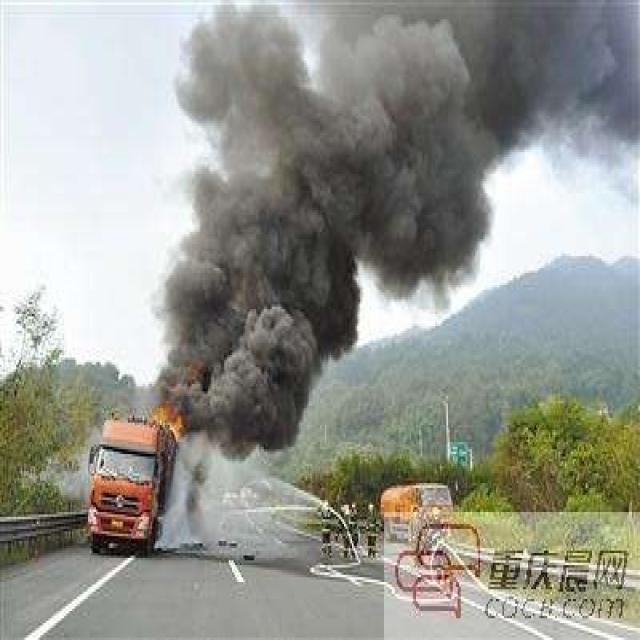fire: (147, 372, 189, 447)
smoke: (162, 2, 636, 456), (46, 427, 100, 500)
